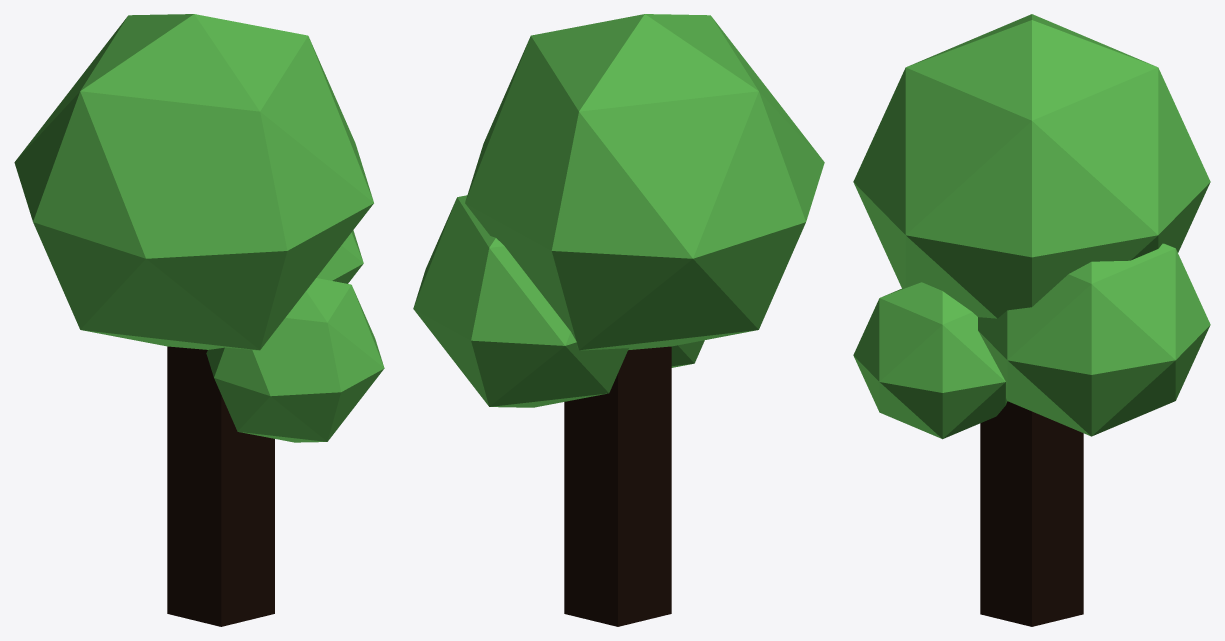
File: Plants-Tree-Blobs-Small.FBX
The picture shows the model from 3 angles, left to right: view 1: azimuth 30°, elevation 25°; view 2: azimuth 150°, elevation 25°; view 3: azimuth 270°, elevation 25°; orthographic projection. The views are drawn at different scales.
Parts seen in each view (by area): view 1: Plants-Tree-Blobs-Small; view 2: Plants-Tree-Blobs-Small; view 3: Plants-Tree-Blobs-Small.
Boxes of the visible parts, box(x1,y1,x2,y2) form: Plants-Tree-Blobs-Small: box(14, 14, 384, 626); Plants-Tree-Blobs-Small: box(413, 14, 824, 626); Plants-Tree-Blobs-Small: box(853, 14, 1210, 626).
Size of the model in its own units: 32.5 by 30 by 52.73.
